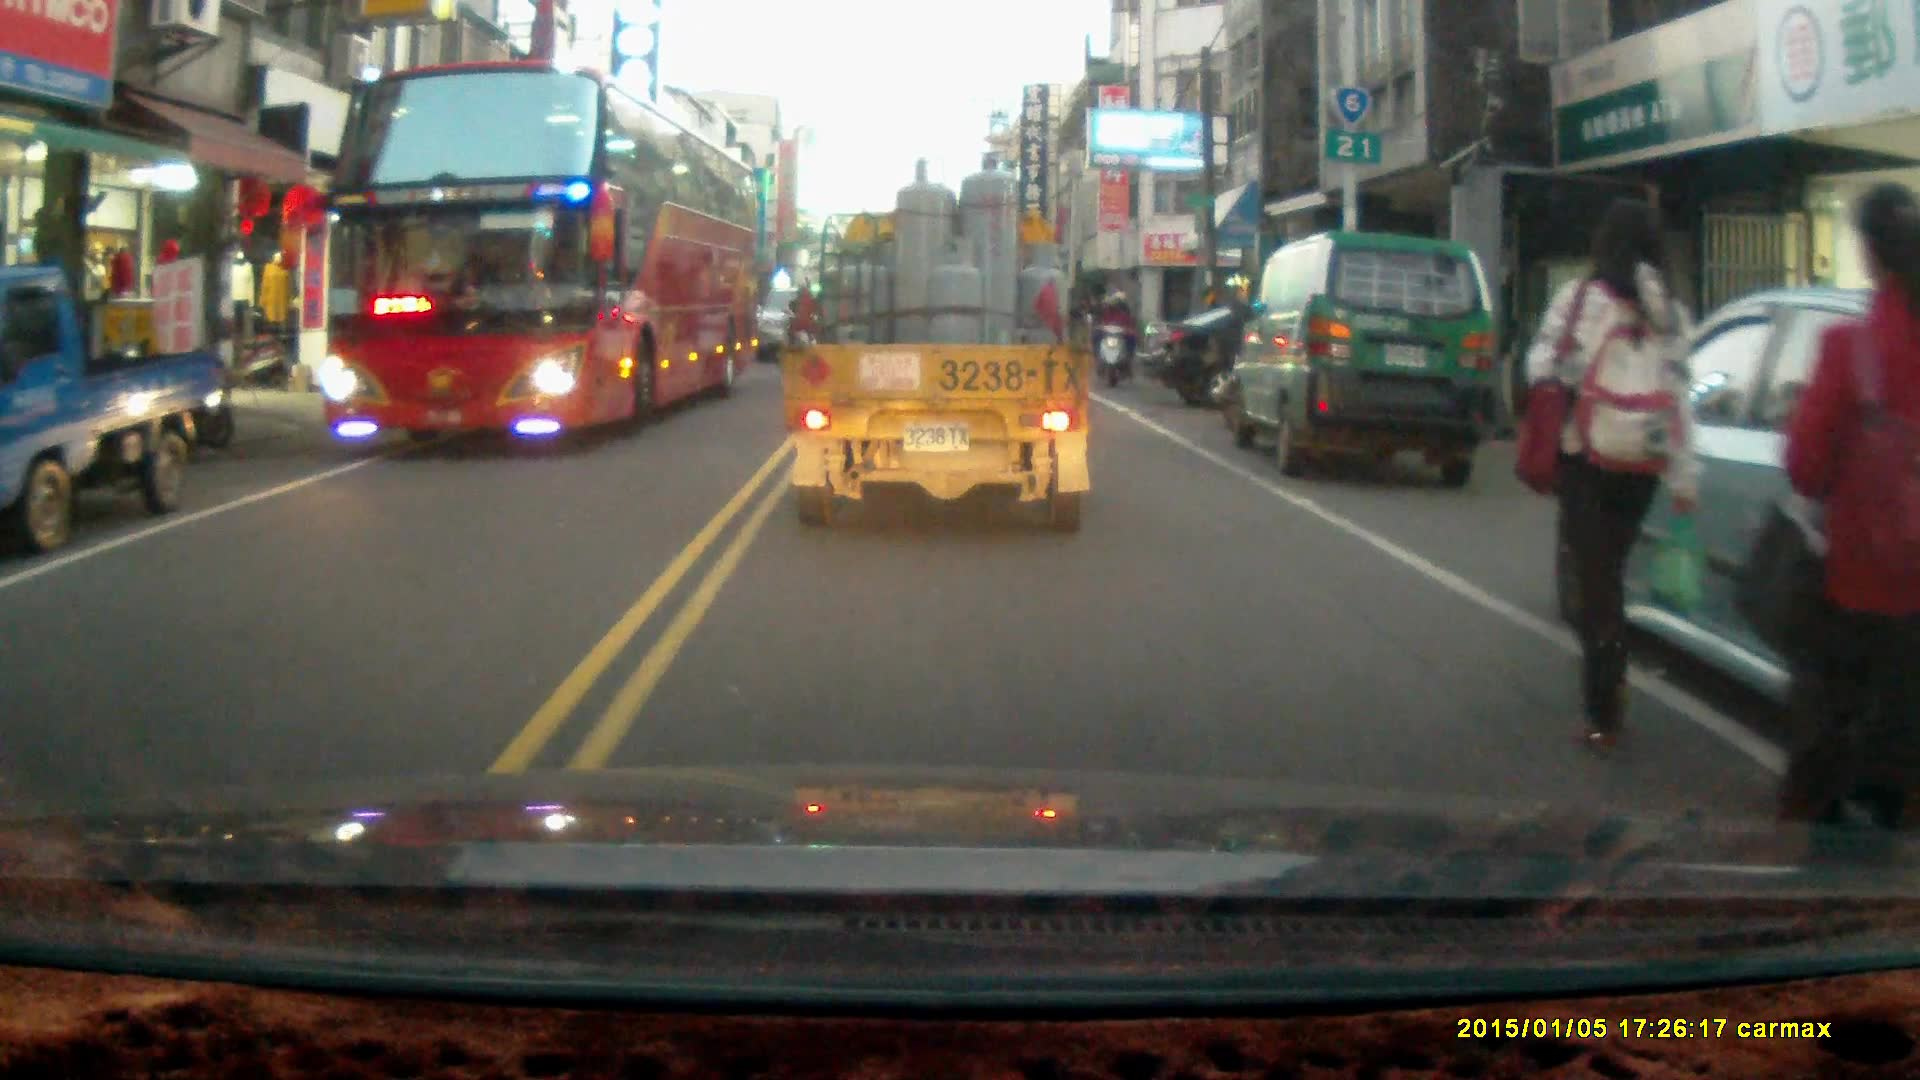pedestrian: (1518, 195, 1705, 760), (1781, 180, 1920, 845)
rider: (1090, 286, 1136, 384)
vehicle: (314, 63, 770, 453), (786, 151, 1096, 538), (1, 265, 228, 562), (1230, 231, 1497, 481), (1133, 303, 1434, 408)
